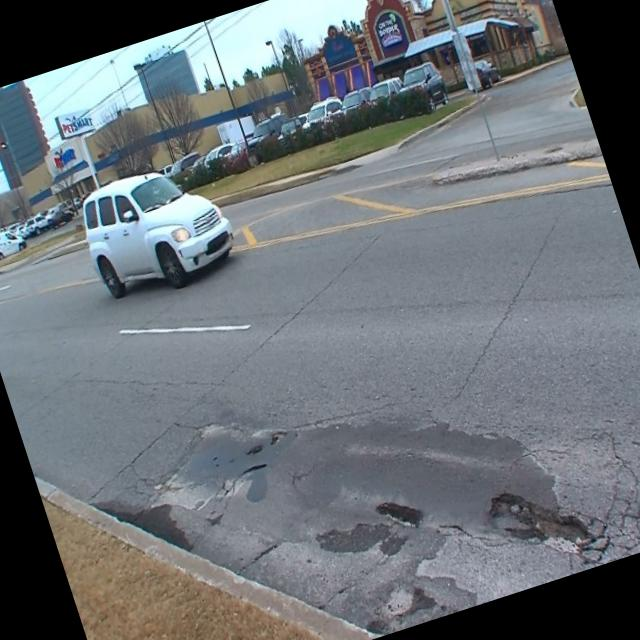Potholes: (478, 465, 602, 581), (358, 464, 432, 554)
